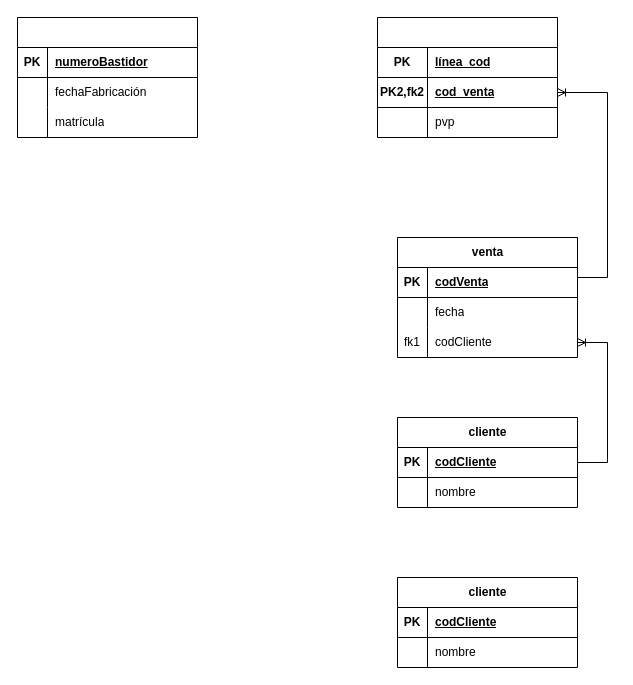
Some shapes in this 633 by 685 pixel diagram are drawn without their labels. The shapes that lost their labels are listed below. From the top down, each one's box as (x1, y1, x2, y2) in pixels, then its label:
(16, 16, 198, 138): vehículo
(376, 16, 558, 138): líneaDeVenta
